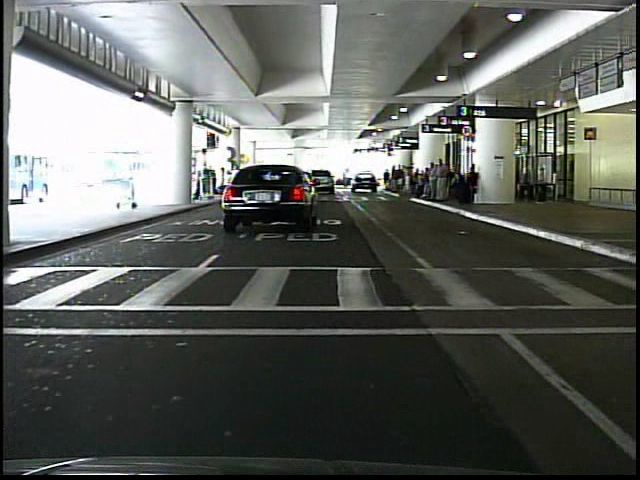person: (431, 154, 453, 207), (122, 165, 143, 210)
